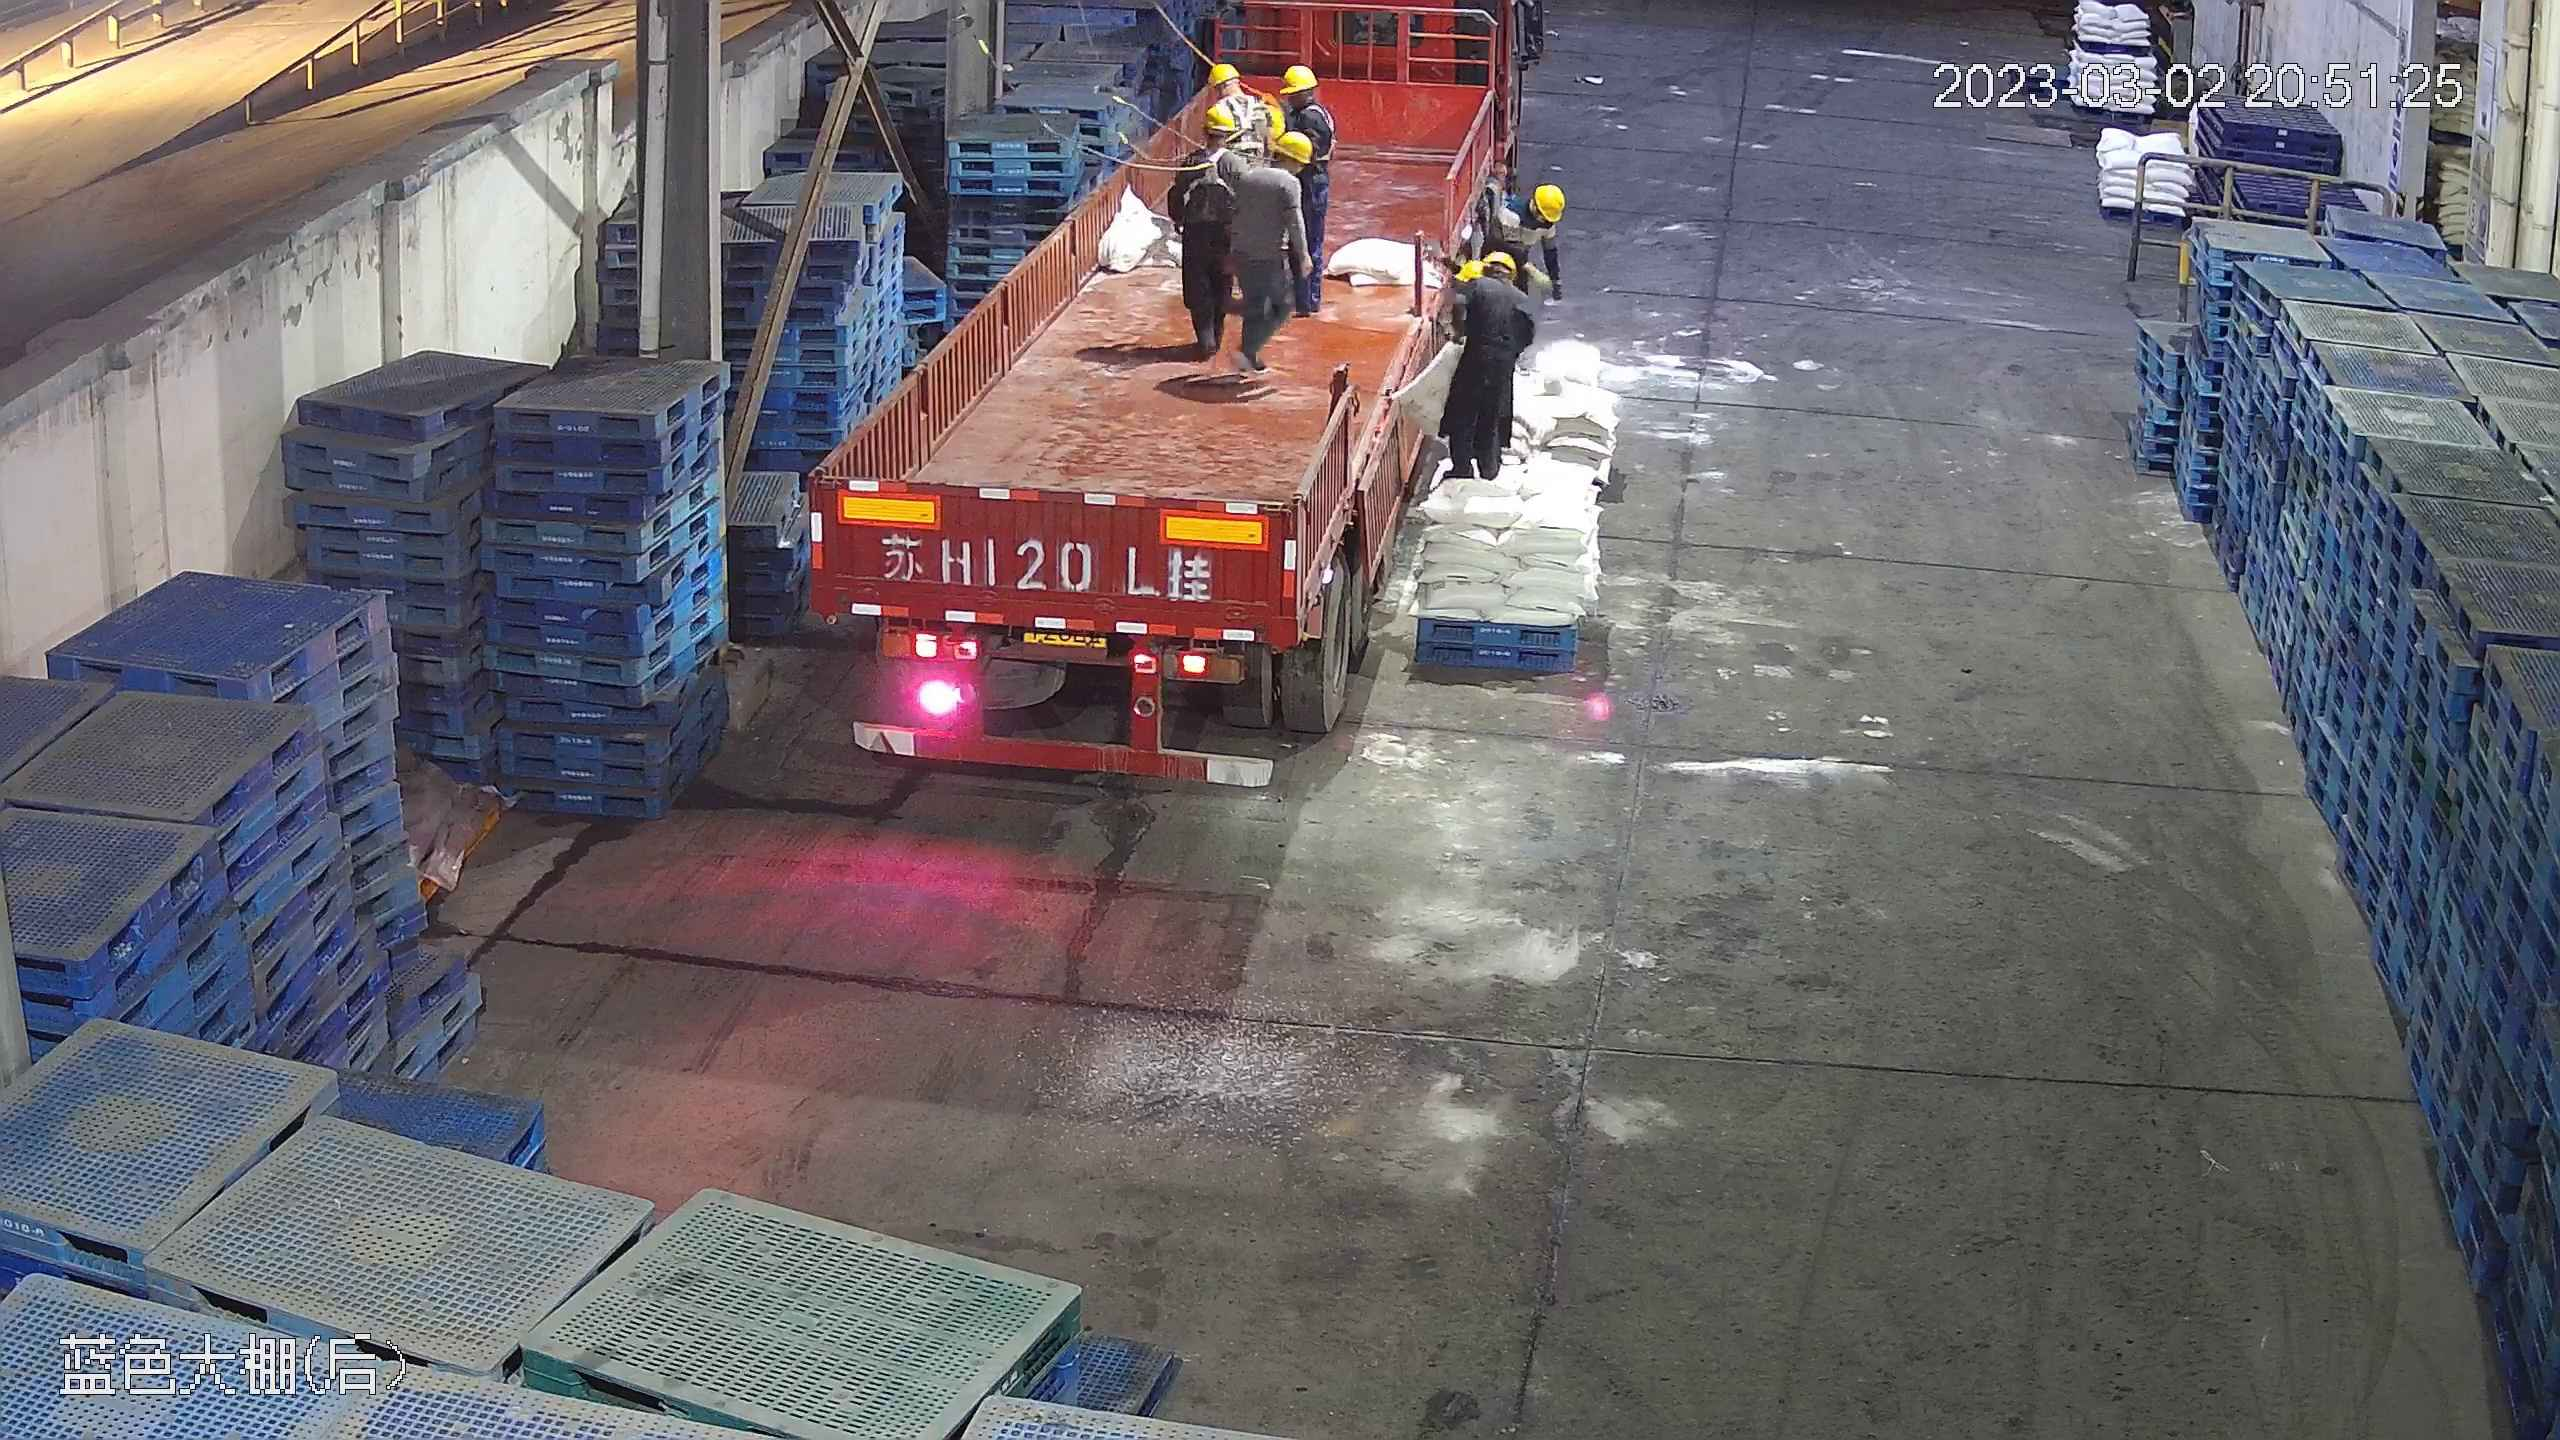belt: (1213, 90, 1275, 154), (1293, 102, 1344, 156), (1186, 144, 1236, 200), (1251, 87, 1278, 106)
head: (1173, 102, 1249, 189), (1446, 249, 1528, 321), (1492, 182, 1564, 262), (1234, 131, 1311, 202), (1263, 62, 1329, 138), (1201, 61, 1276, 127)
helmet: (1201, 102, 1243, 137), (1270, 130, 1313, 164), (1533, 184, 1564, 221), (1484, 249, 1516, 277), (1281, 63, 1316, 89), (1204, 60, 1238, 87), (1458, 256, 1488, 283)
people: (1161, 101, 1251, 365), (1435, 248, 1535, 477), (1229, 132, 1318, 373)
truck: (806, 37, 1516, 780)
